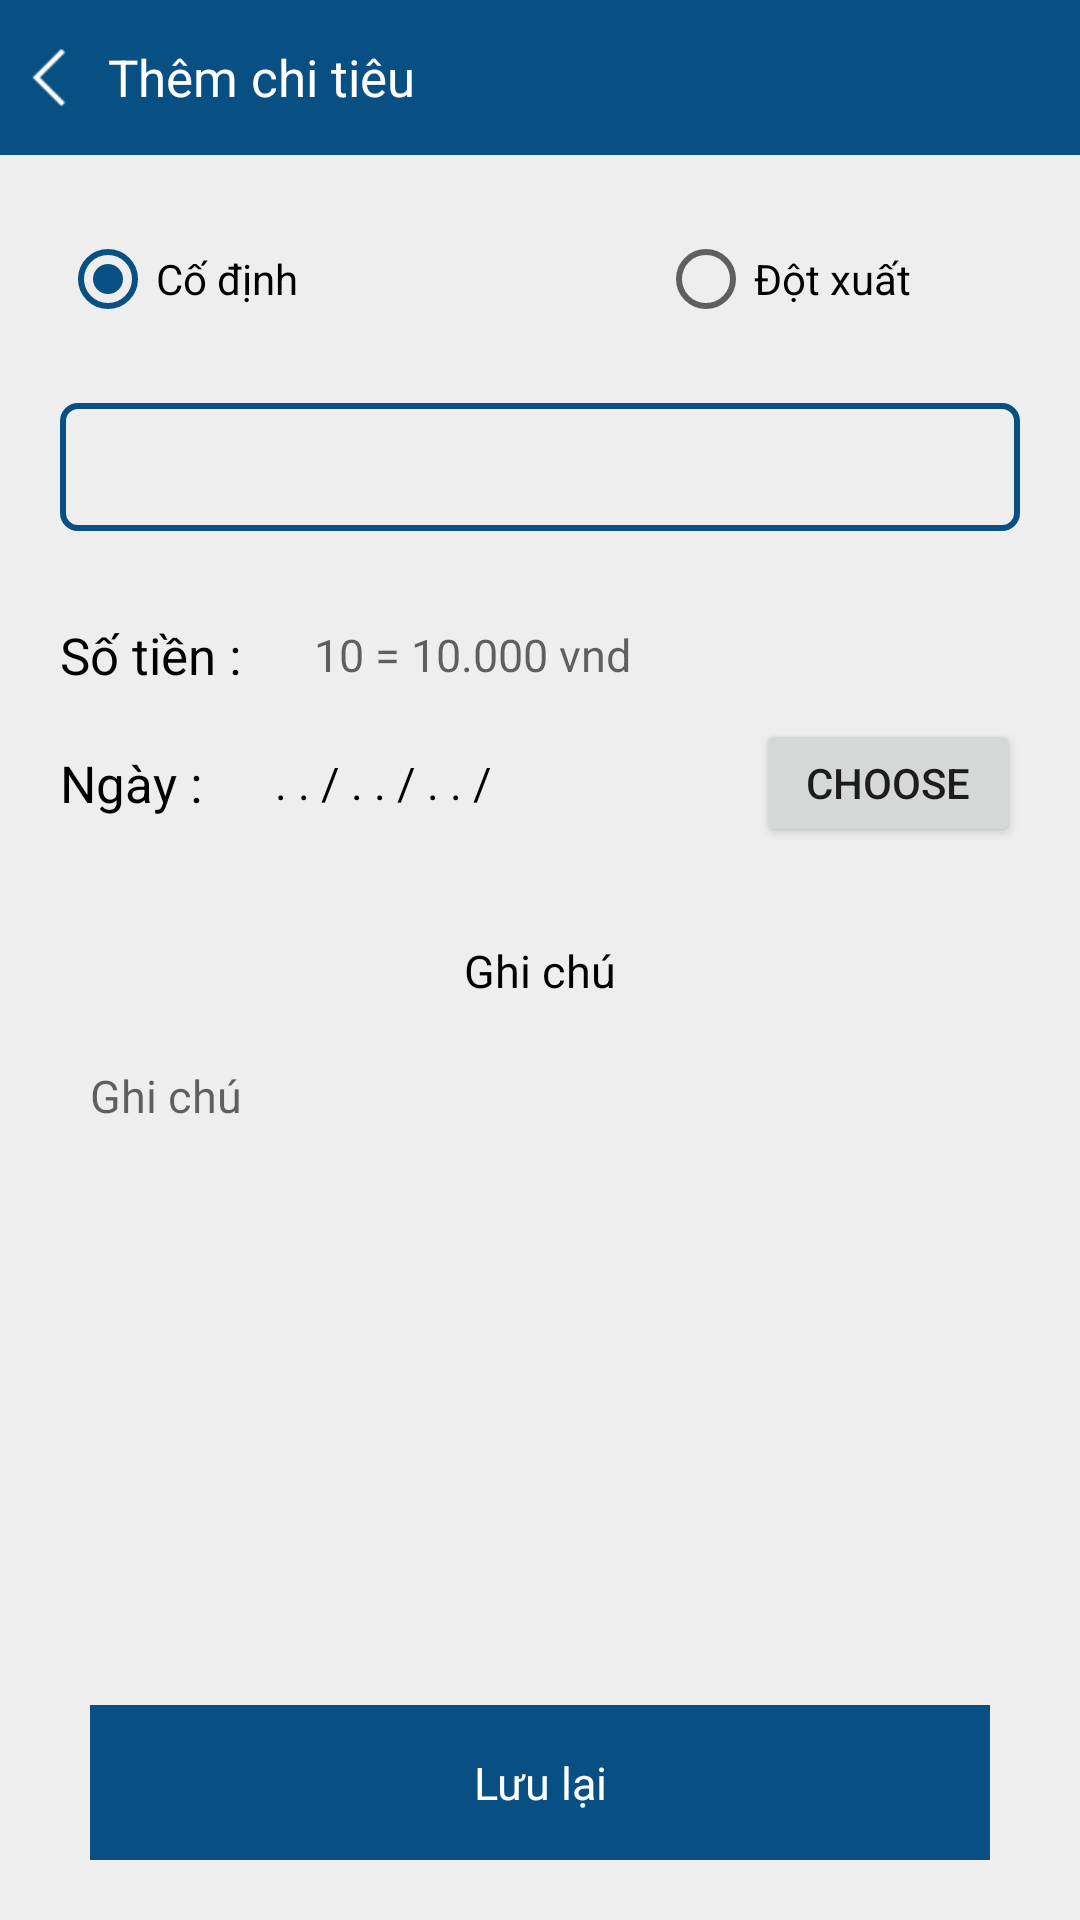

Where to tap for icons on this 1080x1920 app screen, as point (x, y):
back: point (48, 77)
